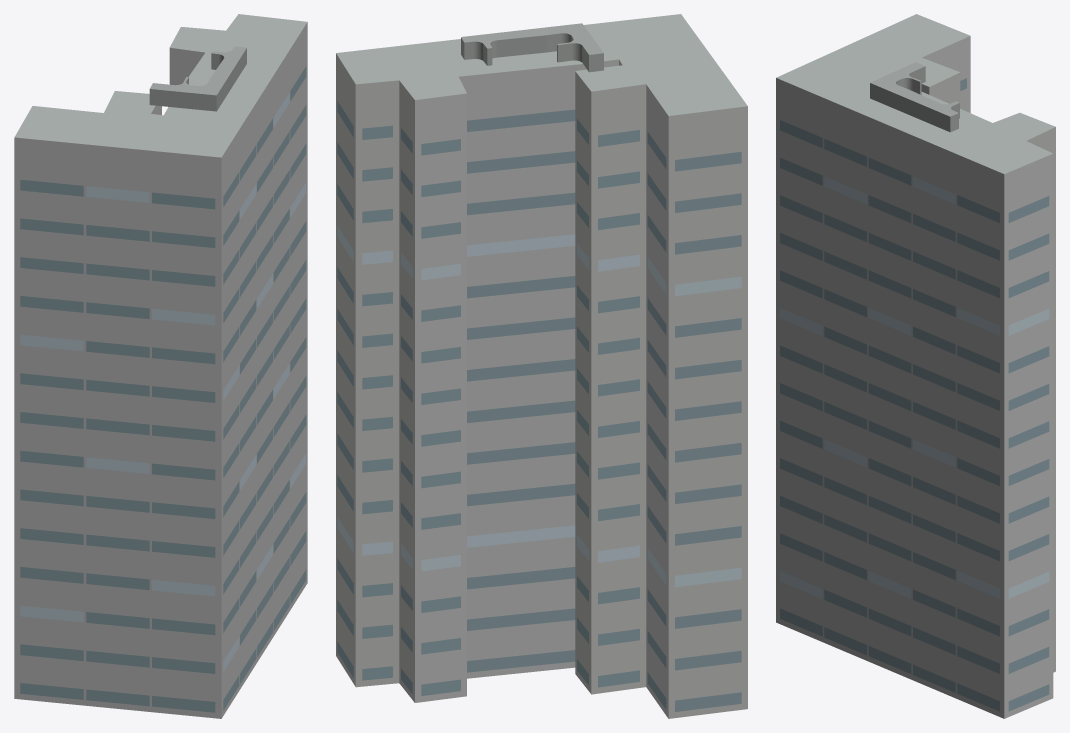
The model's file is fallback-godeok-central-ipark-514.glb.
3 renders of one model, left to right at view 1: azimuth 30°, elevation 25°; view 2: azimuth 150°, elevation 25°; view 3: azimuth 270°, elevation 25°, orthographic. The views are drawn at different scales.
Parts seen in each view (by area): view 1: fallback-godeok-central-ipark-514; view 2: fallback-godeok-central-ipark-514; view 3: fallback-godeok-central-ipark-514.
Part boxes in pixels (x1,y1,x2,y2): fallback-godeok-central-ipark-514: [14, 14, 307, 718]; fallback-godeok-central-ipark-514: [336, 14, 747, 718]; fallback-godeok-central-ipark-514: [776, 14, 1055, 718].
Bounding box in the file's own units: 52.74 × 86 × 38.93.
